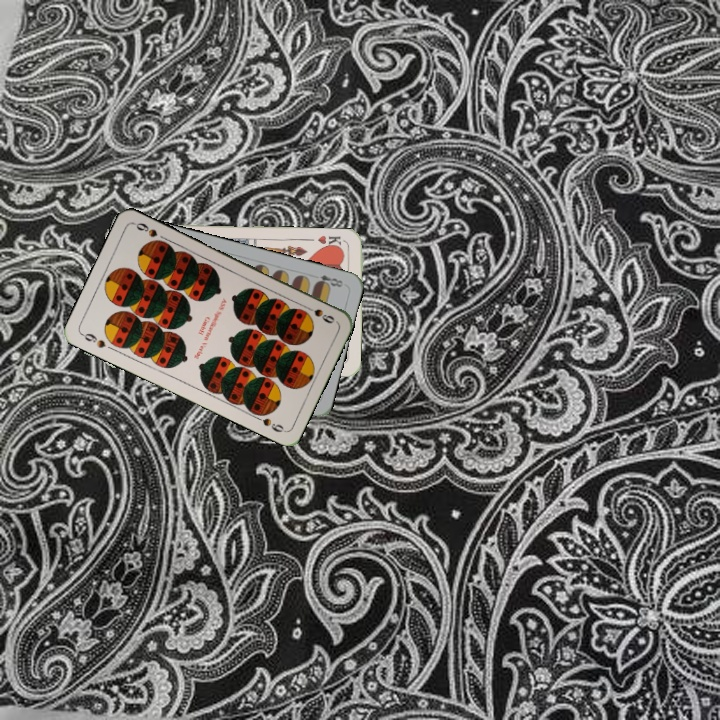E8: (308, 271, 346, 290)
HK: (314, 231, 348, 251)
S9: (300, 301, 337, 326), (78, 329, 108, 350)
